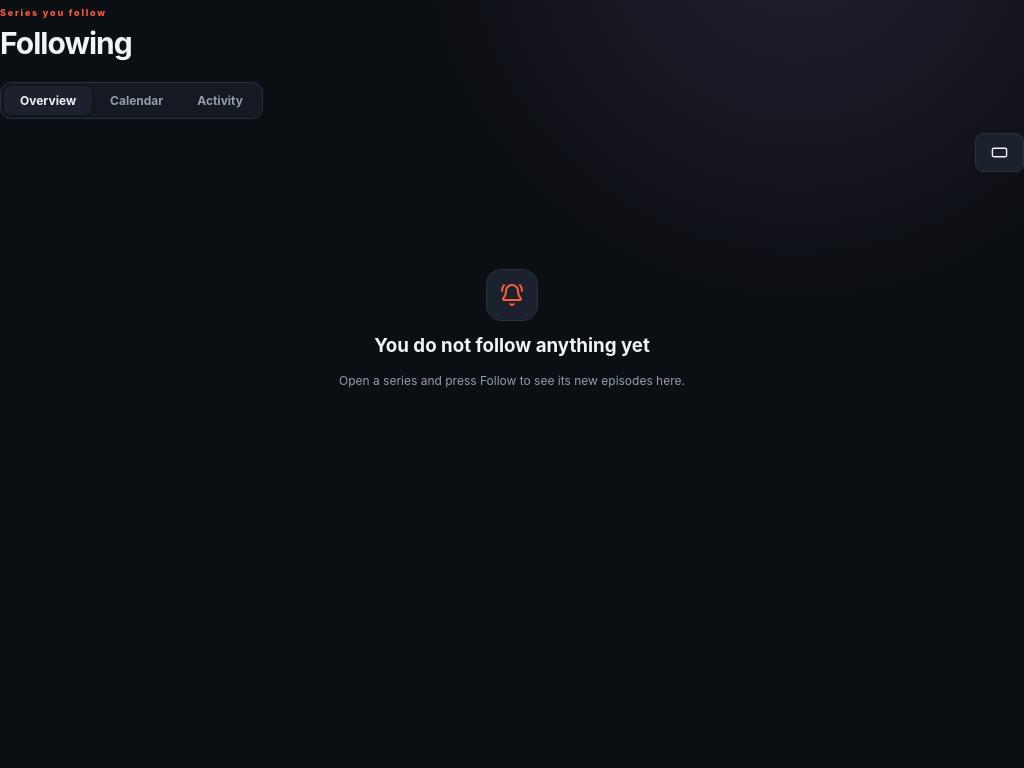
Test: FollowingPage › a phone opens the calendar as a list grouped by day
Click the tab "Calendar" at (137, 100), box [94,86,179,115]
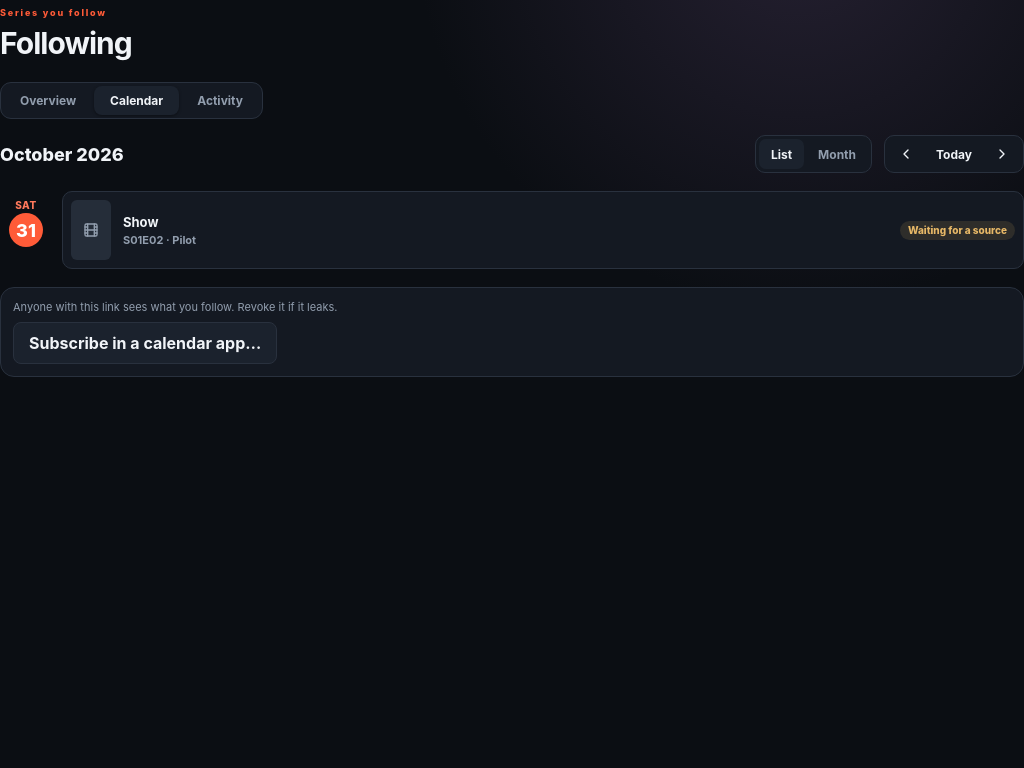
expect the text "31" is shown: met, box [9,213,43,247]
expect the text "S01E02 · Pilot" is shown: met, box [123,232,196,246]
Click the button "Month" at (837, 154), box [806,139,868,169]
(page scrolled)
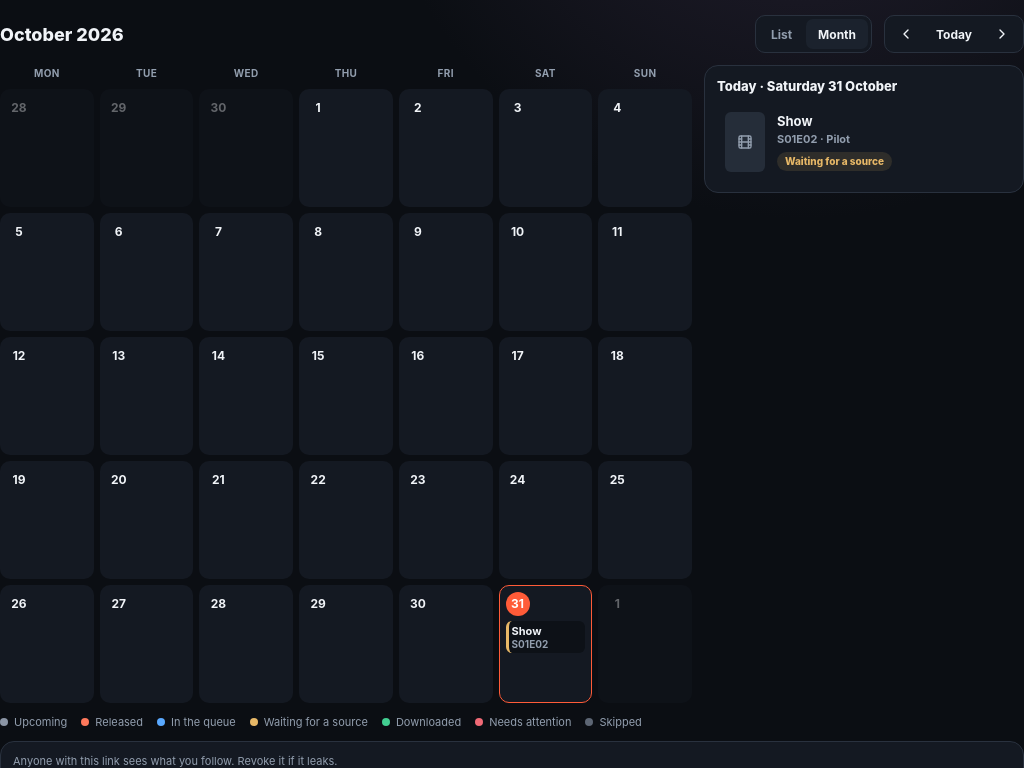
expect the element with class "following-calendar" is shown: met, box [0,65,692,703]
